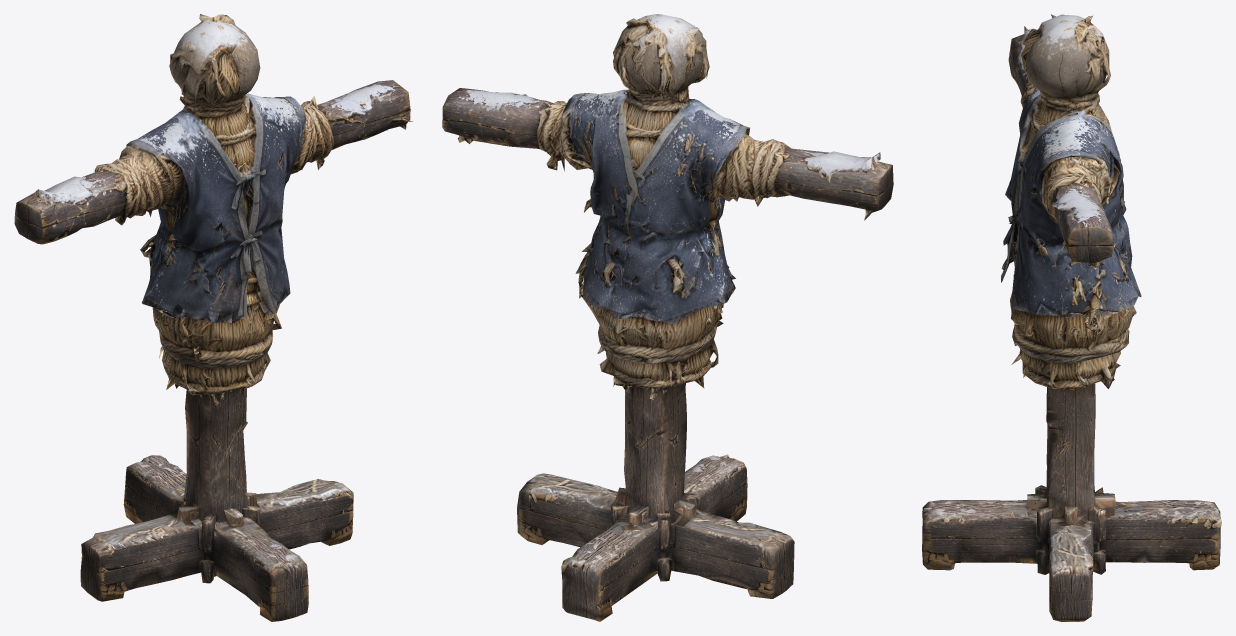
Rendered from dummy3_remesh.fbx.
3 views of the same model, side by side, from view 1: azimuth 30°, elevation 25°; view 2: azimuth 150°, elevation 25°; view 3: azimuth 270°, elevation 25° (orthographic).
Visible parts, largest first — view 1: texture_mapping; view 2: texture_mapping; view 3: texture_mapping.
Boxes of the visible parts, box(x1,y1,x2,y2) form: texture_mapping: box(14, 14, 412, 621); texture_mapping: box(442, 14, 893, 621); texture_mapping: box(922, 14, 1221, 621).
Size of the model in its own units: 0.7742 by 0.4978 by 0.9976.
Materials: 1 (1 with a texture image).
